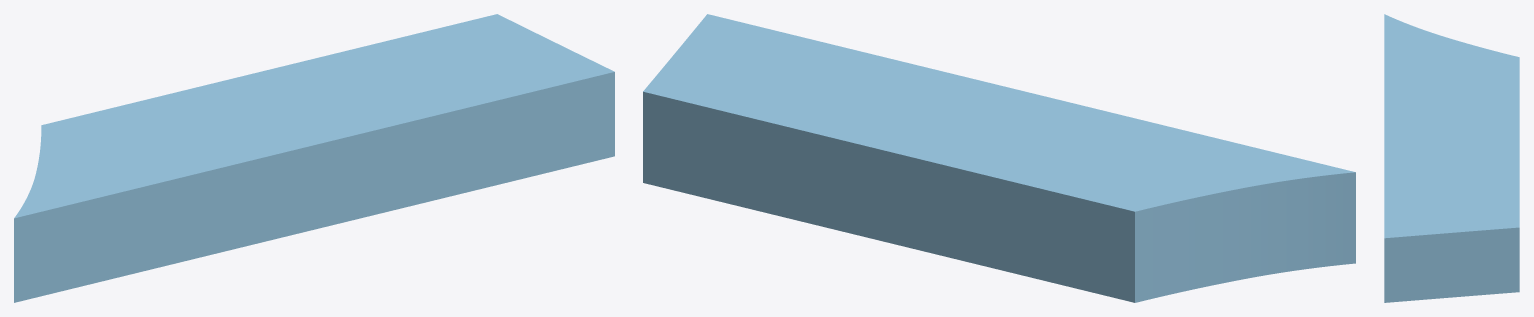
File: Collision-Carrier-Left.dae
3 views of the same model, side by side, from view 1: azimuth 30°, elevation 25°; view 2: azimuth 150°, elevation 25°; view 3: azimuth 270°, elevation 25° (orthographic). The views are drawn at different scales.
Visible parts, largest first — view 1: ID2; view 2: ID2; view 3: ID2.
Boxes of the visible parts, x1,y1,x2,y2 form: ID2: (14, 14, 614, 302); ID2: (643, 14, 1355, 302); ID2: (1384, 14, 1519, 302).
Bounding box in the file's own units: 0.4463 × 0.114 × 0.06.
